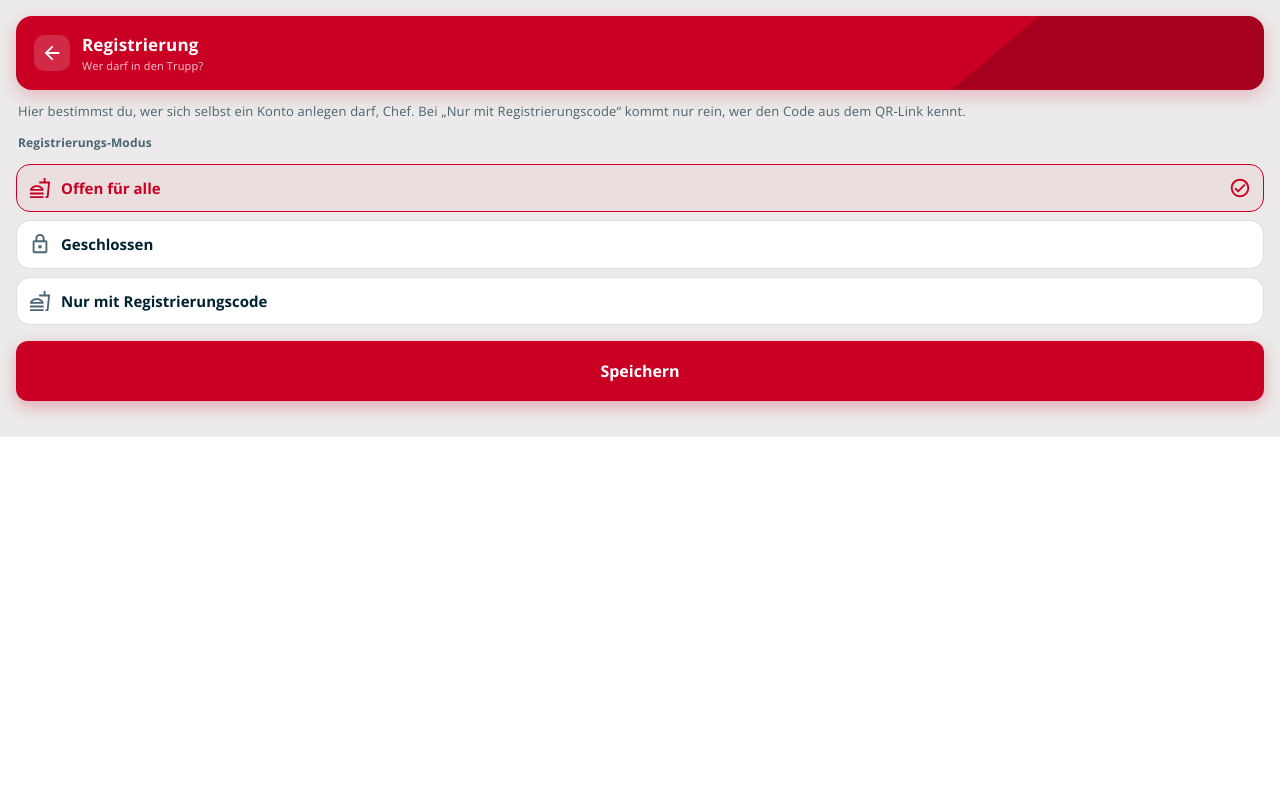
Test: AdminRegistrationModePage › speichert SecretKeyOnly samt Code per PUT und zeigt den Erfolg
Click the radio button labelled "Nur mit Registrierungscode".
click(164, 300)  # box [16,276,1264,325]
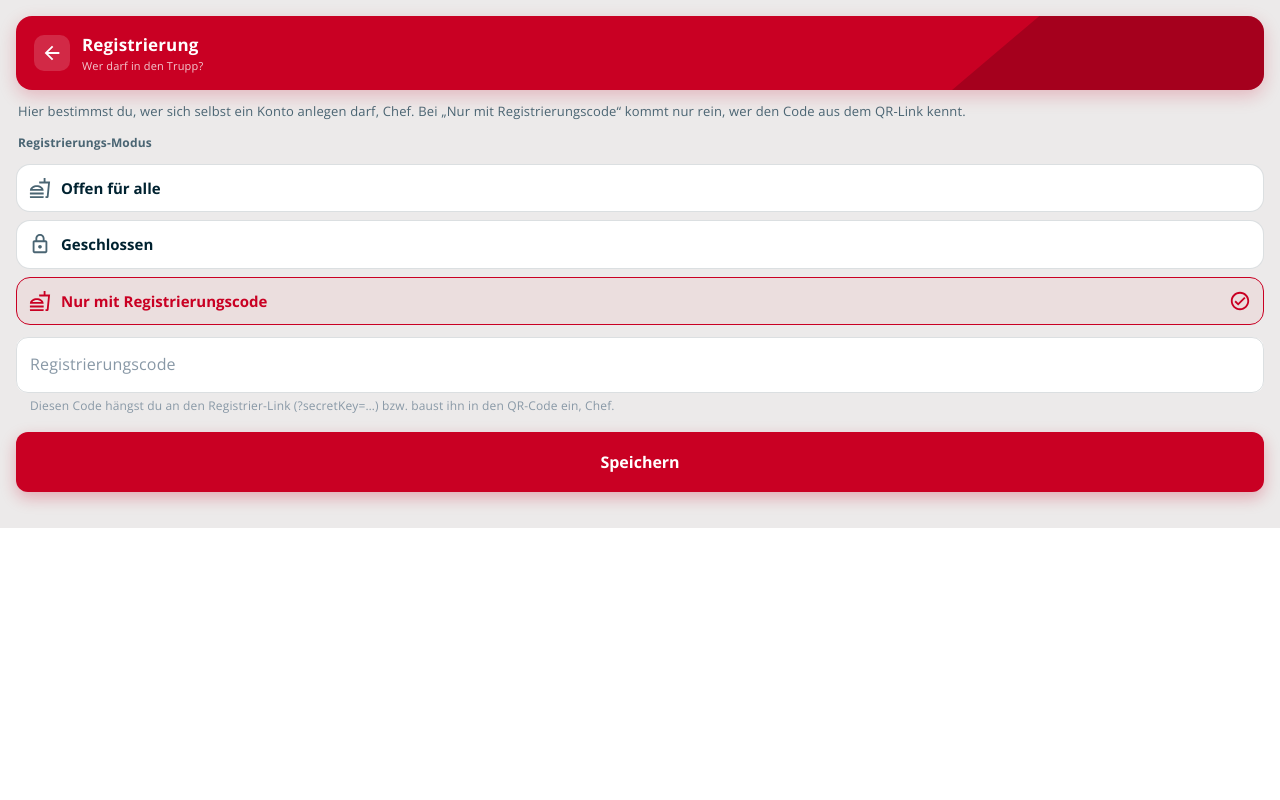
Type "doener-2026" into the field labelled "Registrierungscode".
click(640, 365); type("doener-2026")  # box [16,337,1264,393]
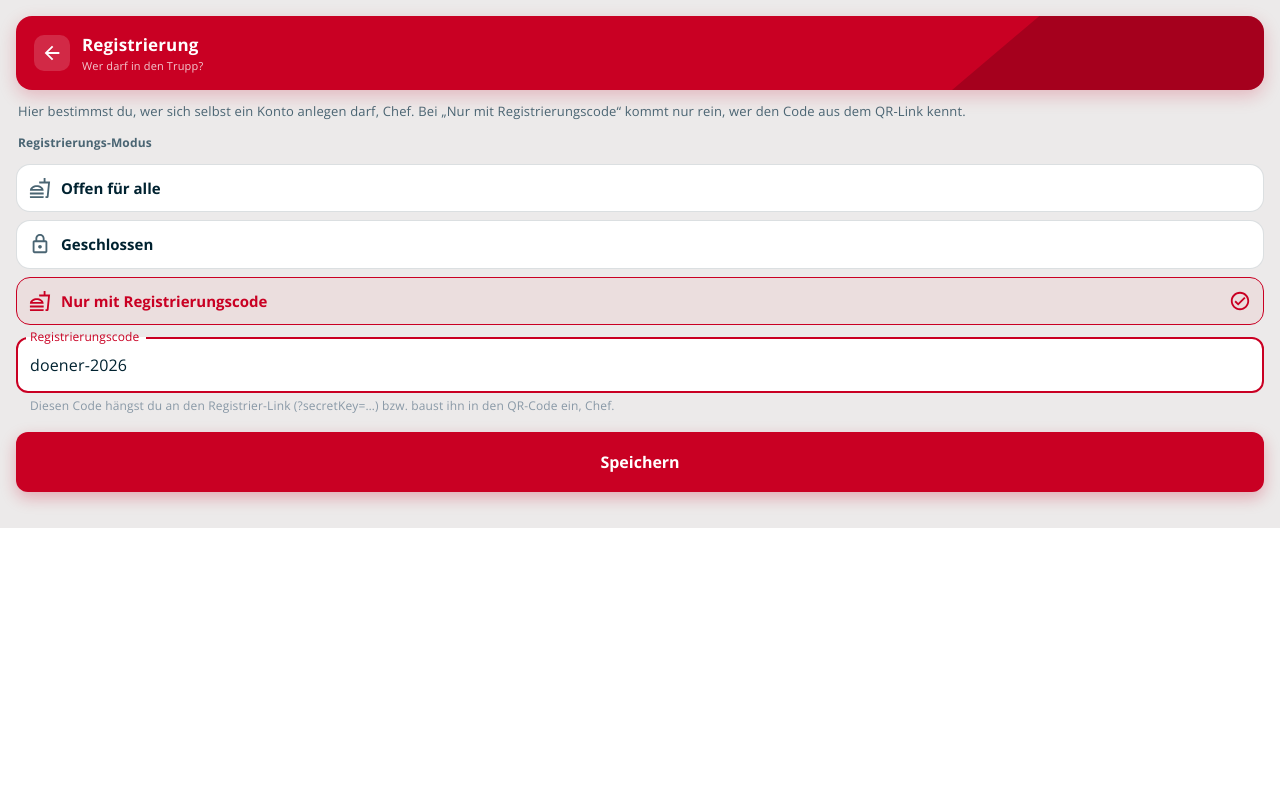
Click the button "Speichern".
click(640, 462)  # box [16,432,1264,492]
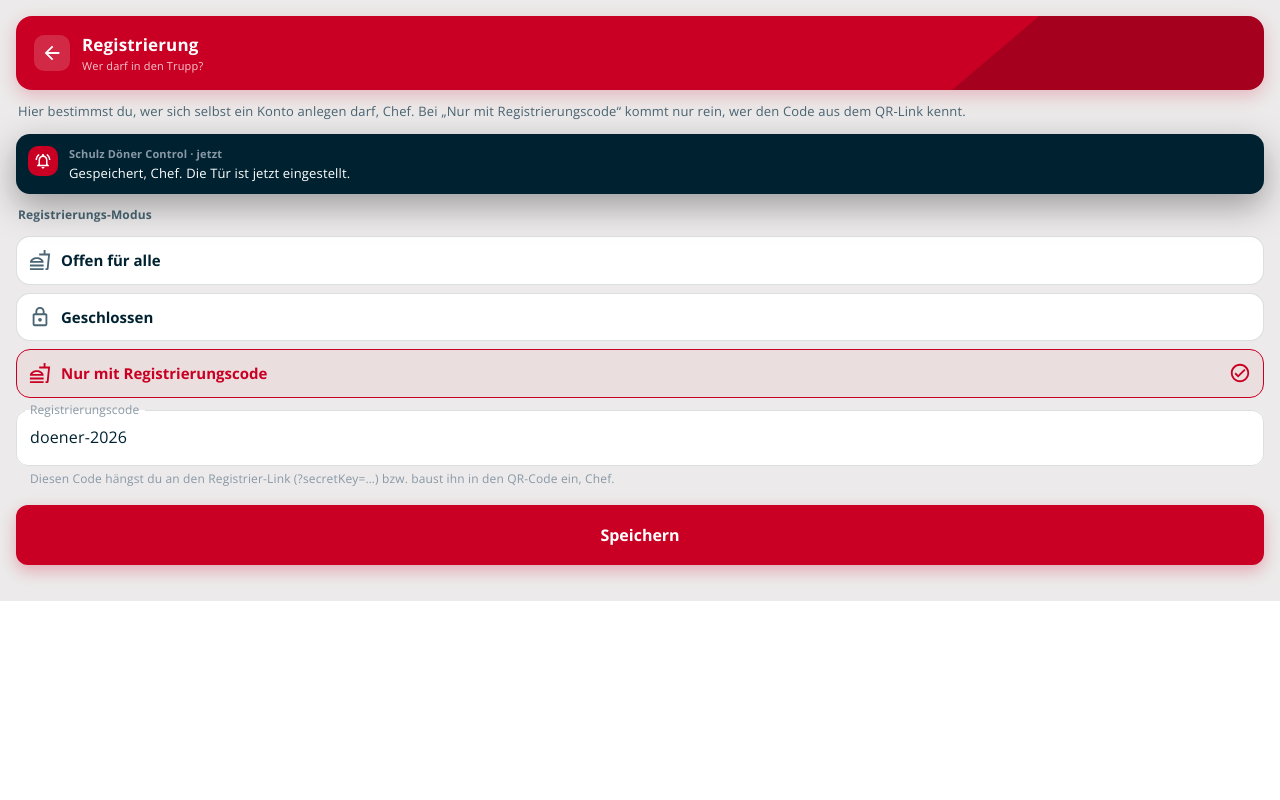
Expected: the text "Gespeichert, Chef. Die Tür ist jetzt eingestellt." is shown, [69,164,350,182]
